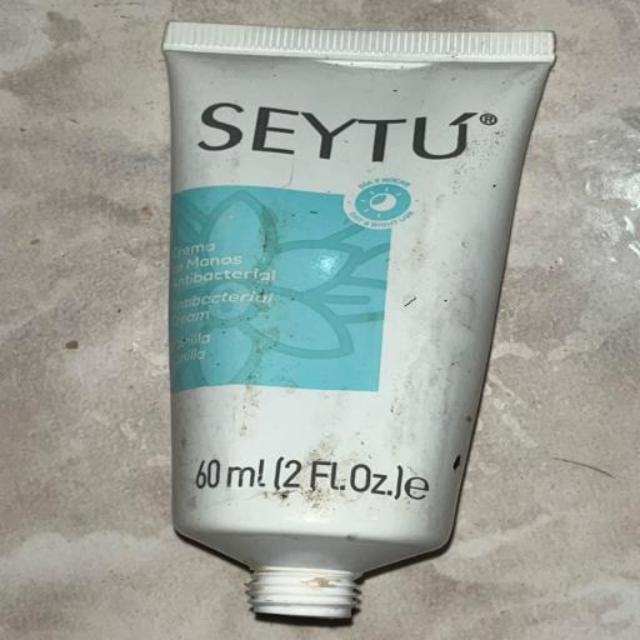HDPE: (76, 10, 608, 640)
